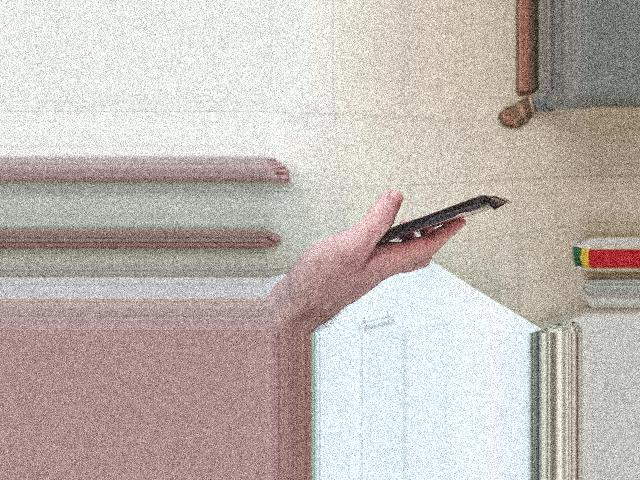chocolate: (352, 182, 514, 258)
